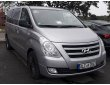License Plates: (79, 61, 97, 67)
